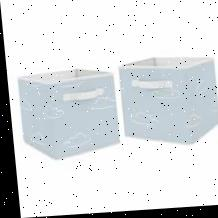cube: (114, 54, 218, 149), (14, 67, 117, 162)
